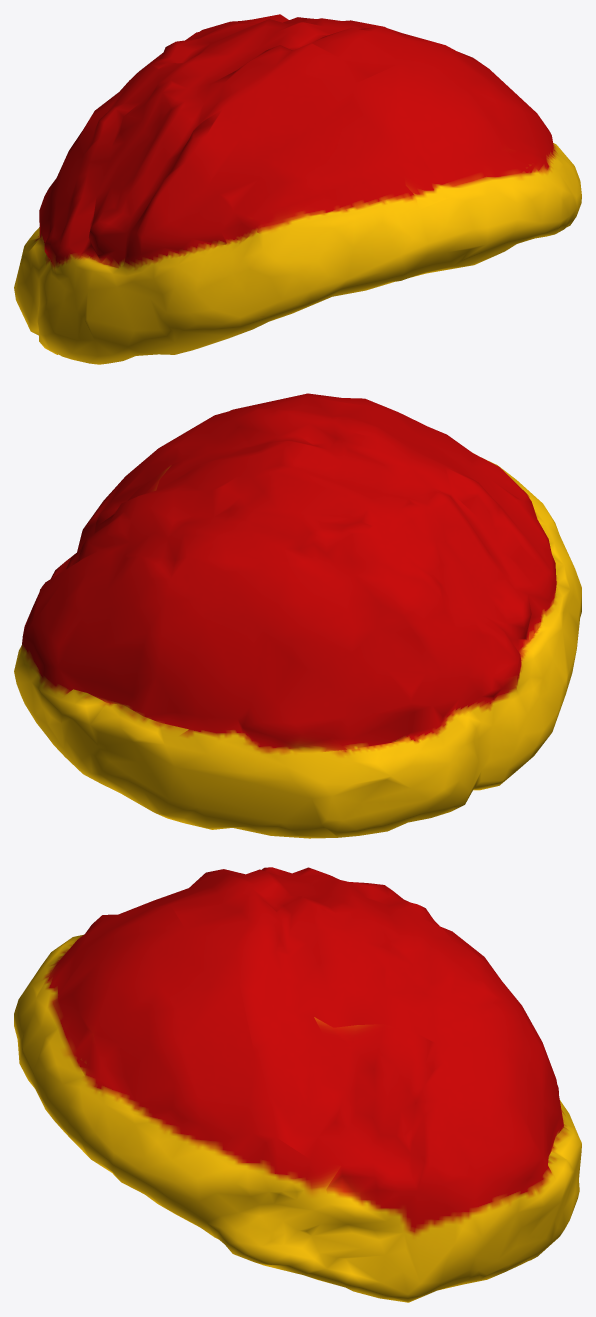
File: knit kc.glb
3 renders of one model, top to bottom at view 1: azimuth 30°, elevation 25°; view 2: azimuth 150°, elevation 25°; view 3: azimuth 270°, elevation 25°, orthographic. The views are drawn at different scales.
Parts seen in each view (by area): view 1: hat_knit_kc.001; view 2: hat_knit_kc.001; view 3: hat_knit_kc.001.
Boxes of the visible parts, left/top/right/bottom form: hat_knit_kc.001: left=14, top=14, right=581, bottom=364; hat_knit_kc.001: left=14, top=393, right=581, bottom=838; hat_knit_kc.001: left=14, top=867, right=581, bottom=1302.
Bounding box in the file's own units: 0.3703 × 0.2293 × 0.3542.
Materials: 1 (1 with a texture image).
